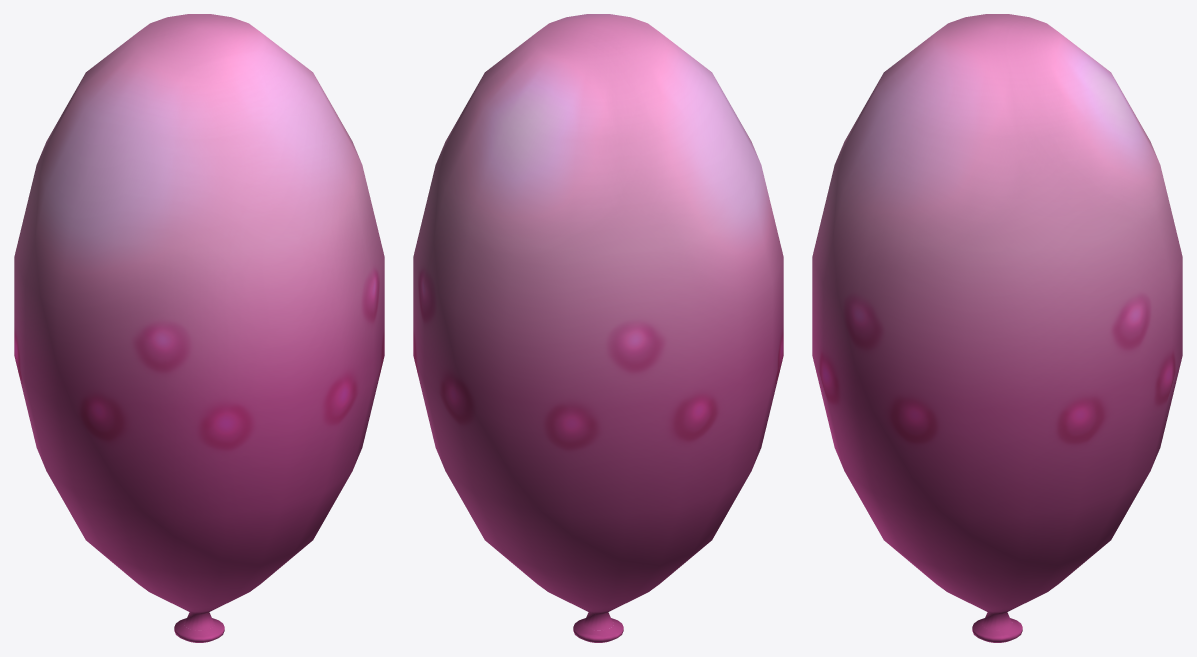
The model's file is Popis_Globo.FBX.
3 views of the same model, side by side, from view 1: azimuth 30°, elevation 25°; view 2: azimuth 150°, elevation 25°; view 3: azimuth 270°, elevation 25° (orthographic).
Visible parts, largest first — view 1: GloboChavo_Low002; view 2: GloboChavo_Low002; view 3: GloboChavo_Low002.
Part boxes in pixels (bbox=[...]): GloboChavo_Low002: bbox=[14, 14, 384, 642]; GloboChavo_Low002: bbox=[413, 14, 783, 642]; GloboChavo_Low002: bbox=[812, 14, 1182, 642].
Bounding box in the file's own units: 3.93 × 7.22 × 3.99.
